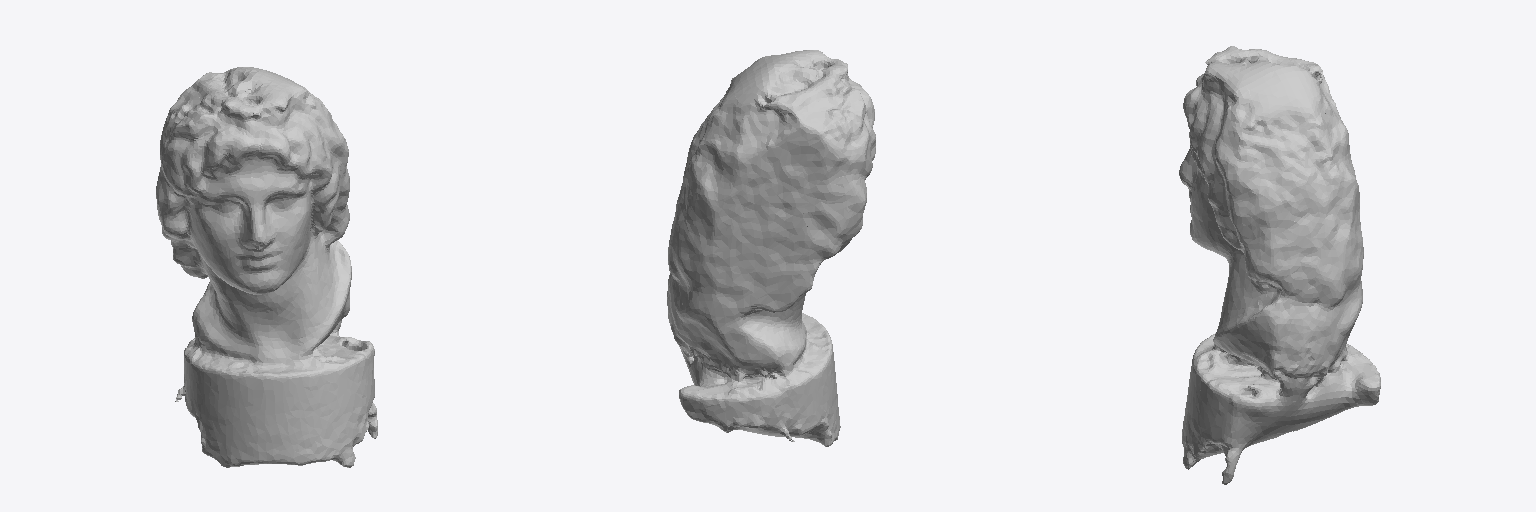
The model's file is alexandre.obj.
The picture shows the model from 3 angles: view 1: azimuth 30°, elevation 25°; view 2: azimuth 150°, elevation 25°; view 3: azimuth 270°, elevation 25°; orthographic projection.
Parts seen in each view (by area): view 1: model; view 2: model; view 3: model.
Boxes of the visible parts, box(x1,y1,x2,y2) form: model: box(156, 67, 377, 467); model: box(667, 50, 875, 446); model: box(1179, 46, 1380, 484).
Size of the model in its own units: 2.76 by 5.11 by 2.48.